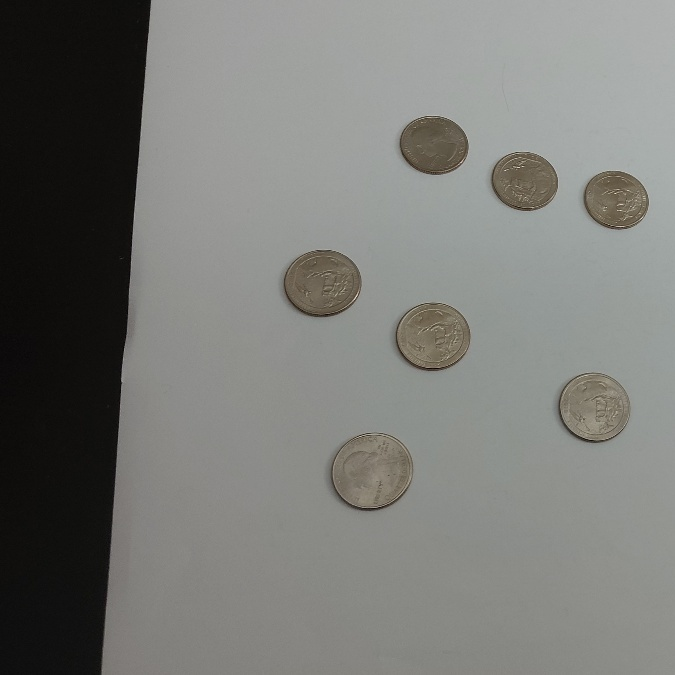coin_quarter: (327, 426, 411, 513), (393, 293, 473, 374), (284, 241, 364, 322), (557, 368, 632, 443), (390, 108, 471, 175), (484, 147, 560, 213), (576, 167, 652, 233)
